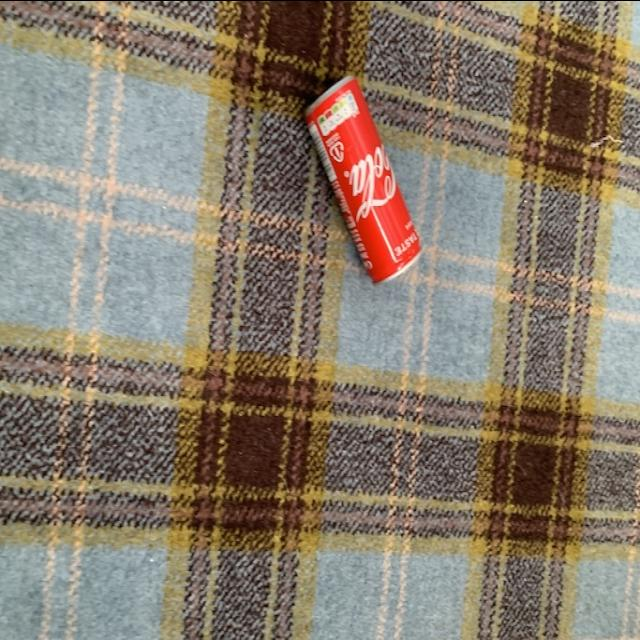Aluminum Can: (304, 75, 426, 289)
